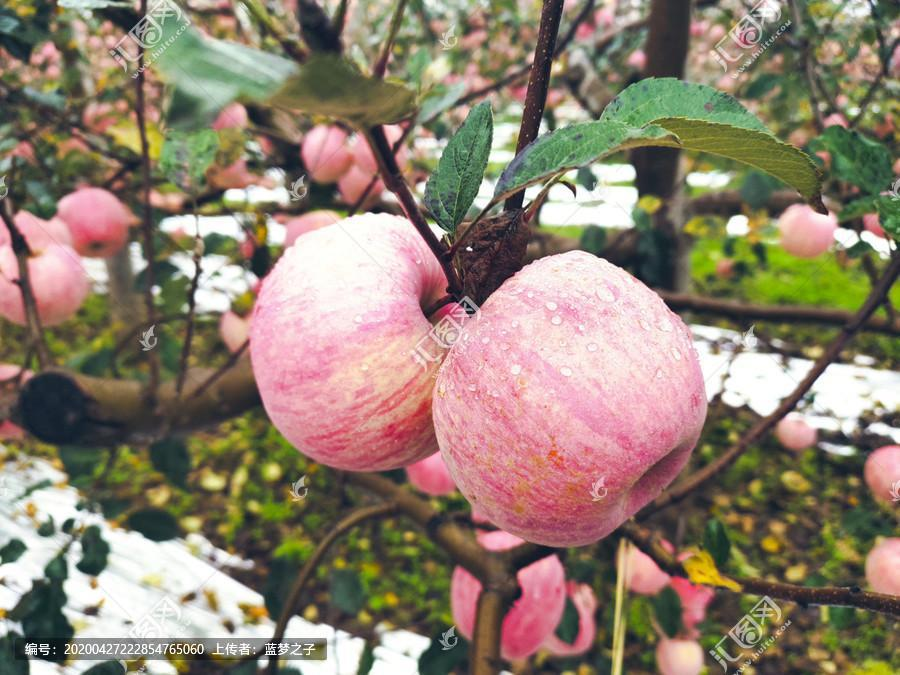apple: (428, 247, 704, 544), (238, 215, 465, 478)
